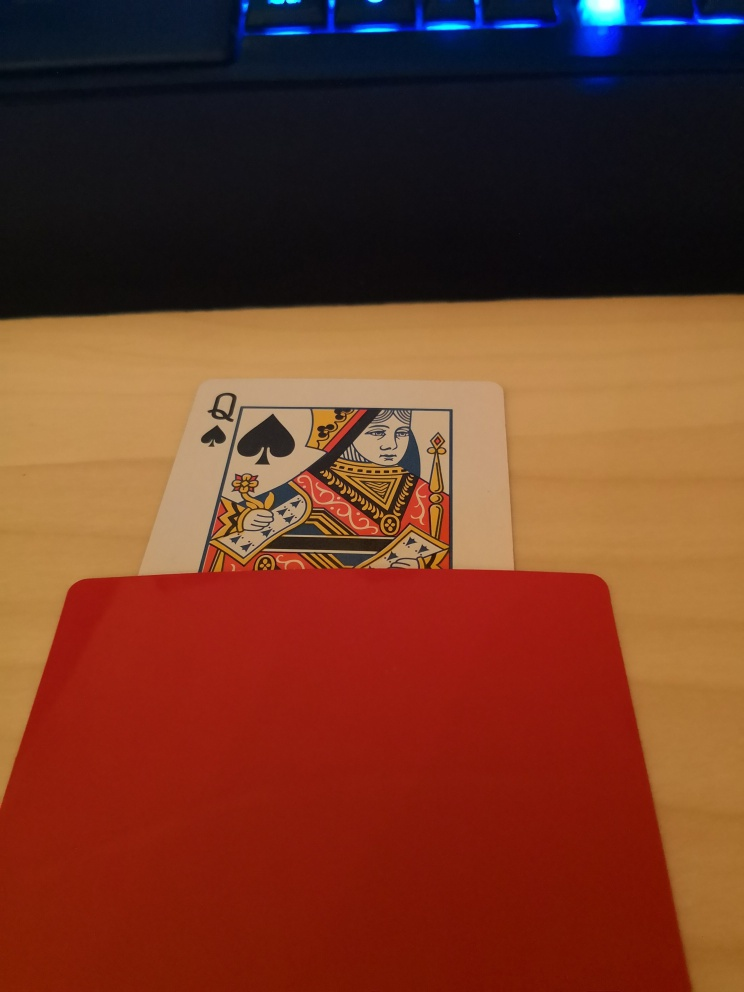queen: (138, 379, 516, 576)
